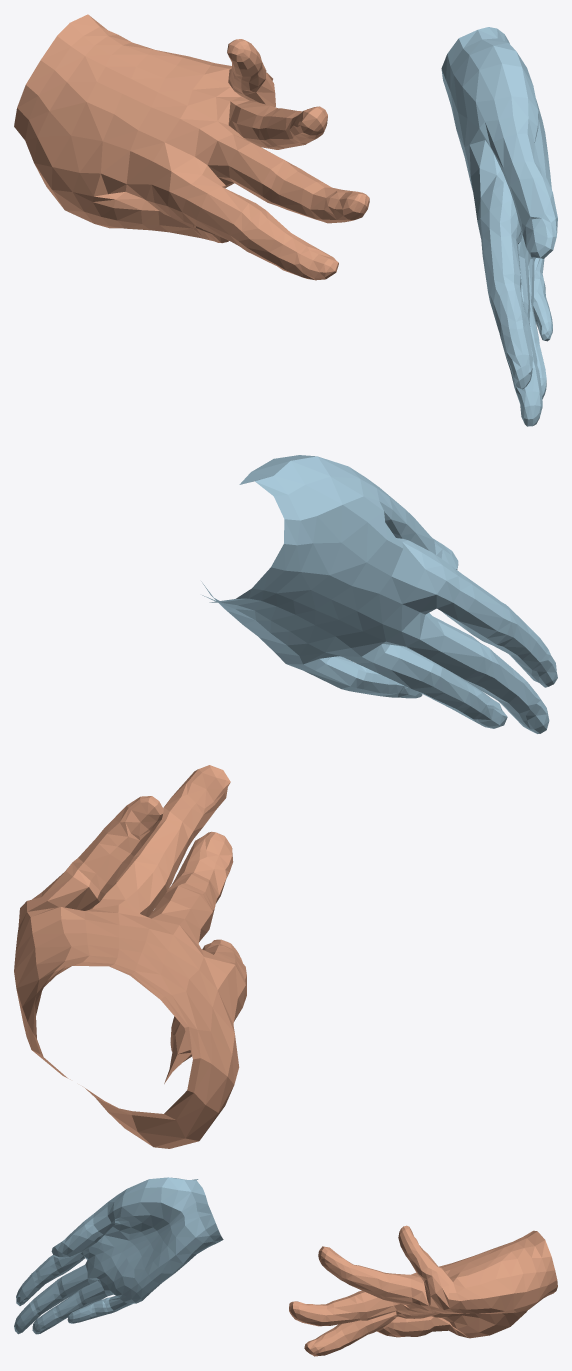
Rendered from frame_026.glb.
The picture shows the model from 3 angles, top to bottom: view 1: azimuth 30°, elevation 25°; view 2: azimuth 150°, elevation 25°; view 3: azimuth 270°, elevation 25°; orthographic projection. The views are drawn at different scales.
Visible parts, largest first — view 1: world; view 2: world; view 3: world.
Boxes of the visible parts, x1=… form: world: x1=14, y1=14, x2=557, y2=426; world: x1=14, y1=455, x2=557, y2=1148; world: x1=14, y1=1177, x2=557, y2=1356.
Size of the model in its own units: 0.1239 by 0.1453 by 0.3483.
